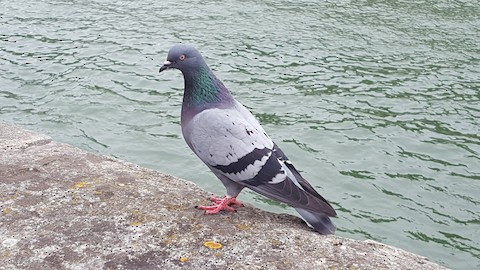pigeon: (154, 39, 343, 238)
